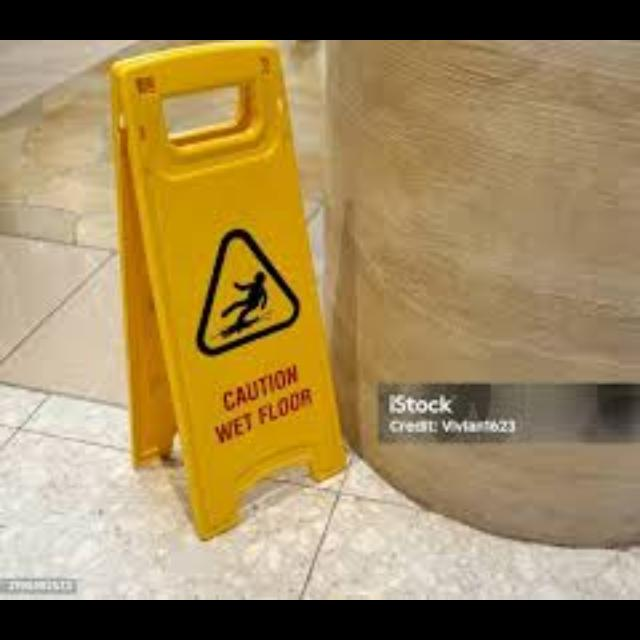tron truot: (112, 40, 344, 536)
